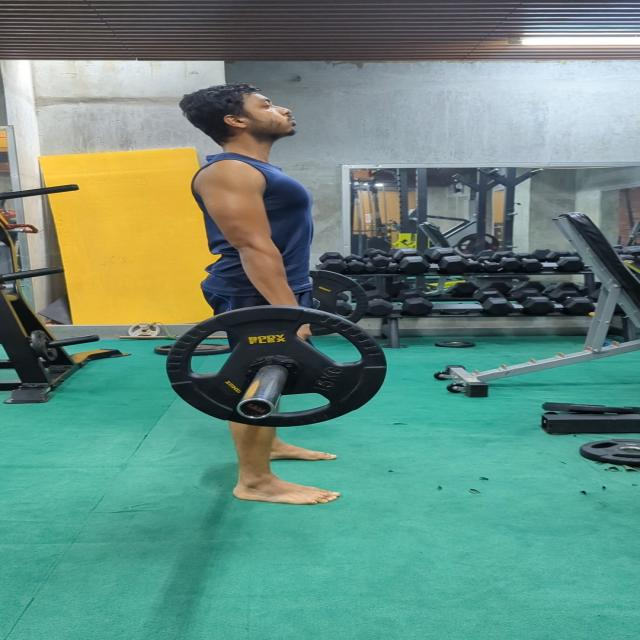Normal_Deadlifts: (171, 80, 344, 506)
